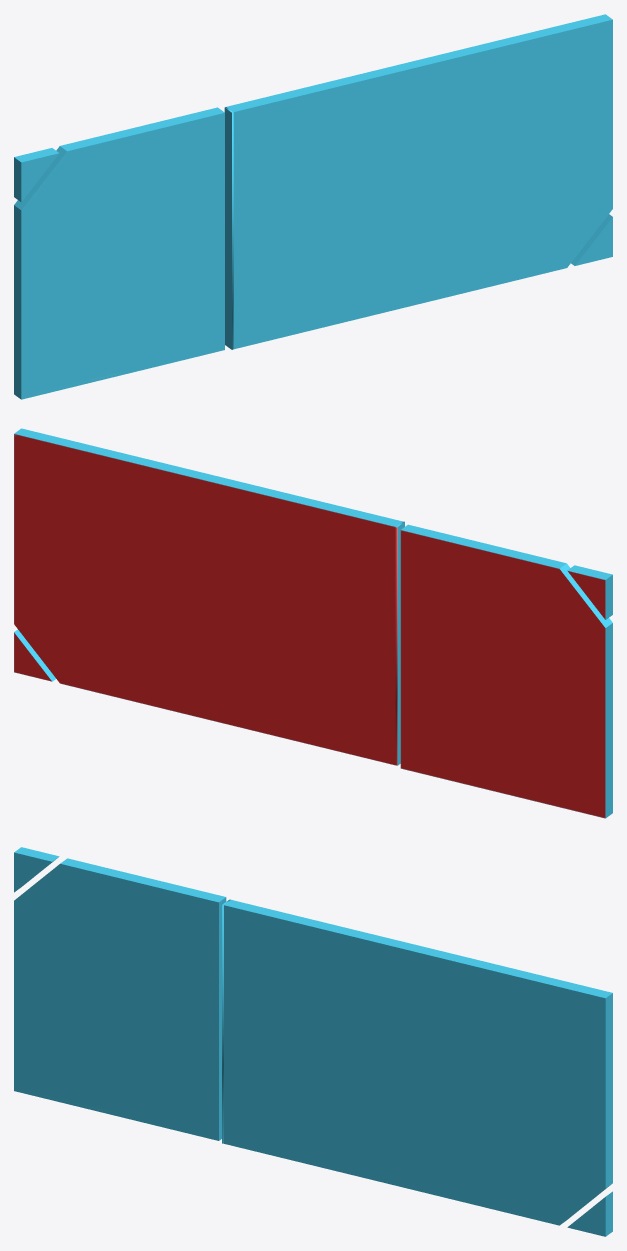
Rendered from lupai.obj.
3 views of the same model, one above another, from view 1: azimuth 30°, elevation 25°; view 2: azimuth 150°, elevation 25°; view 3: azimuth 330°, elevation 25° (orthographic).
Parts seen in each view (by area): view 1: lupai.003; view 2: lupai.003; view 3: lupai.003.
Boxes of the visible parts, left/top/right/bottom form: lupai.003: left=14, top=14, right=612, bottom=399; lupai.003: left=14, top=428, right=612, bottom=818; lupai.003: left=14, top=847, right=612, bottom=1236.
Size of the model in its own units: 232 by 89.07 by 6.34.
1 material, 1 textured.
